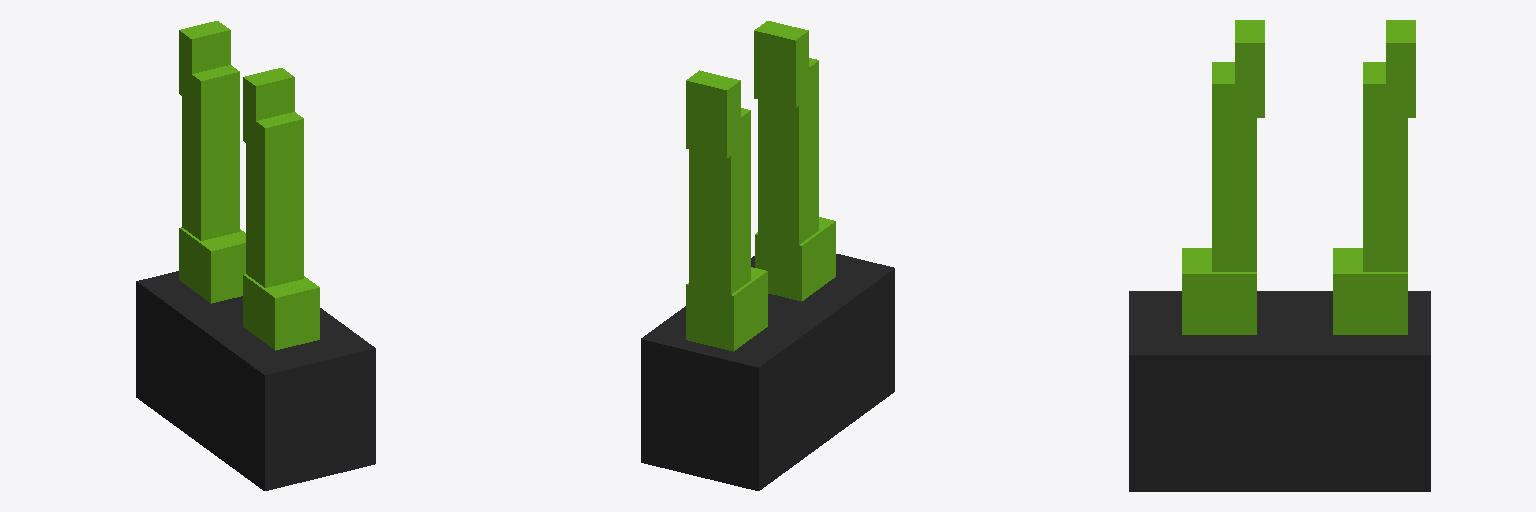
The robot description file, URDF, robot "enpire_piper_gripper":
<?xml version="1.0" encoding="utf-8"?>
<robot name="enpire_piper_gripper">
  <!-- Gripper Base -->
  <link name="gripper_base_link">
    <inertial>
      <origin xyz="0 0 0.02" rpy="0 0 0"/>
      <mass value="0.25"/>
      <inertia ixx="0.0002" ixy="0" ixz="0" iyy="0.0002" iyz="0" izz="0.0001"/>
    </inertial>
    <visual>
      <origin xyz="0 0 0.02" rpy="0 0 0"/>
      <geometry>
        <box size="0.04 0.08 0.04"/>
      </geometry>
      <material name="dark_gray">
        <color rgba="0.2 0.2 0.2 1.0"/>
      </material>
    </visual>
    <collision>
      <origin xyz="0 0 0.02" rpy="0 0 0"/>
      <geometry>
        <box size="0.04 0.08 0.04"/>
      </geometry>
    </collision>
  </link>

  <!-- Left Finger Joint -->
  <joint name="left_finger_joint" type="prismatic">
    <origin xyz="0 0.02 0.04" rpy="0 0 0"/>
    <parent link="gripper_base_link"/>
    <child link="left_finger_link"/>
    <axis xyz="0 1 0"/>
    <limit lower="0.0" upper="0.0350" effort="50" velocity="0.2"/>
    <dynamics damping="1.0" friction="0.1"/>
  </joint>

  <!-- Left Finger Link -->
  <link name="left_finger_link">
    <inertial>
      <origin xyz="0 0.01 0.035" rpy="0 0 0"/>
      <mass value="0.04"/>
      <inertia ixx="0.00003" ixy="0" ixz="0" iyy="0.00003" iyz="0" izz="0.00001"/>
    </inertial>
    <visual>
      <origin xyz="0 0 0" rpy="0 0 0"/>
      <geometry>
        <mesh filename="../stl/agilex_piper/piper_enpire_finger_adapter_left.stl" scale="0.001 0.001 0.001"/>
      </geometry>
      <material name="nvidia_green">
        <color rgba="0.45 0.75 0.15 1.0"/>
      </material>
    </visual>
    <collision>
      <origin xyz="0 0 0" rpy="0 0 0"/>
      <geometry>
        <mesh filename="../stl/agilex_piper/piper_enpire_finger_adapter_left.stl" scale="0.001 0.001 0.001"/>
      </geometry>
    </collision>
  </link>

  <!-- Right Finger Joint -->
  <joint name="right_finger_joint" type="prismatic">
    <origin xyz="0 -0.02 0.04" rpy="0 0 0"/>
    <parent link="gripper_base_link"/>
    <child link="right_finger_link"/>
    <axis xyz="0 -1 0"/>
    <limit lower="0.0" upper="0.0350" effort="50" velocity="0.2"/>
    <dynamics damping="1.0" friction="0.1"/>
    <mimic joint="left_finger_joint" multiplier="1.0" offset="0.0"/>
  </joint>

  <!-- Right Finger Link -->
  <link name="right_finger_link">
    <inertial>
      <origin xyz="0 -0.01 0.035" rpy="0 0 0"/>
      <mass value="0.04"/>
      <inertia ixx="0.00003" ixy="0" ixz="0" iyy="0.00003" iyz="0" izz="0.00001"/>
    </inertial>
    <visual>
      <origin xyz="0 0 0" rpy="0 0 0"/>
      <geometry>
        <mesh filename="../stl/agilex_piper/piper_enpire_finger_adapter_right.stl" scale="0.001 0.001 0.001"/>
      </geometry>
      <material name="nvidia_green">
        <color rgba="0.45 0.75 0.15 1.0"/>
      </material>
    </visual>
    <collision>
      <origin xyz="0 0 0" rpy="0 0 0"/>
      <geometry>
        <mesh filename="../stl/agilex_piper/piper_enpire_finger_adapter_right.stl" scale="0.001 0.001 0.001"/>
      </geometry>
    </collision>
  </link>

  <!-- Tool Center Point (TCP) Frame -->
  <joint name="tcp_joint" type="fixed">
    <origin xyz="0 0 0.075" rpy="0 0 0"/>
    <parent link="gripper_base_link"/>
    <child link="tcp_link"/>
  </joint>
  <link name="tcp_link"/>
</robot>

--- Render facts (derived) ---
Views: 3 orthographic renders of the robot side by side, from view 1: azimuth 30°, elevation 25°; view 2: azimuth 150°, elevation 25°; view 3: azimuth 270°, elevation 25°.
Model enpire_piper_gripper with 4 links and 3 joints (2 prismatic, 1 fixed), rooted at gripper_base_link, posed all joints at 0.
Links seen in each view (by area): view 1: gripper_base_link, right_finger_link, left_finger_link; view 2: gripper_base_link, left_finger_link, right_finger_link; view 3: gripper_base_link, left_finger_link, right_finger_link.
Link boxes in pixels (box(x1,y1,x2,y2)): gripper_base_link: box(136, 271, 375, 490); right_finger_link: box(243, 68, 319, 350); left_finger_link: box(179, 21, 245, 303); gripper_base_link: box(641, 254, 894, 490); left_finger_link: box(686, 70, 767, 351); right_finger_link: box(754, 21, 835, 301); gripper_base_link: box(1129, 291, 1430, 491); left_finger_link: box(1333, 20, 1415, 334); right_finger_link: box(1182, 20, 1264, 334).
Size in the robot's own frame: 0.04 by 0.08 by 0.125 metres.
Meshes: 2 distinct files referenced, 2 mesh visuals loaded (2 binary STL).
